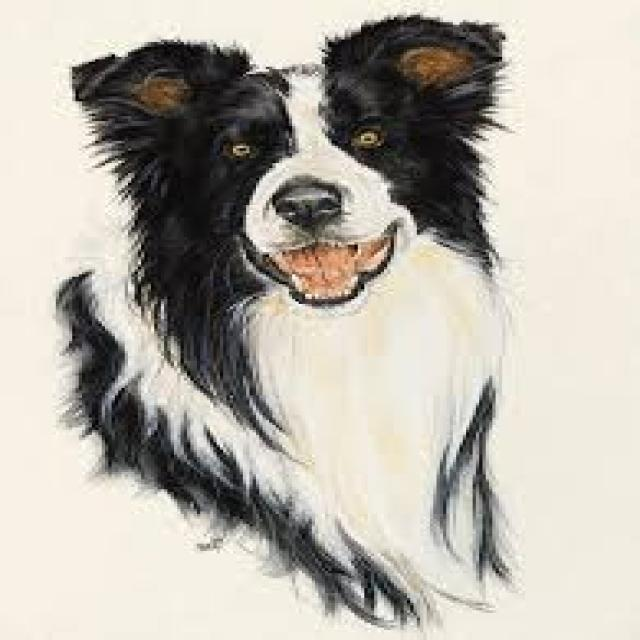ALASKAN_MALAMUTE: (36, 9, 596, 623)
